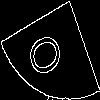O: (25, 25, 71, 82)
